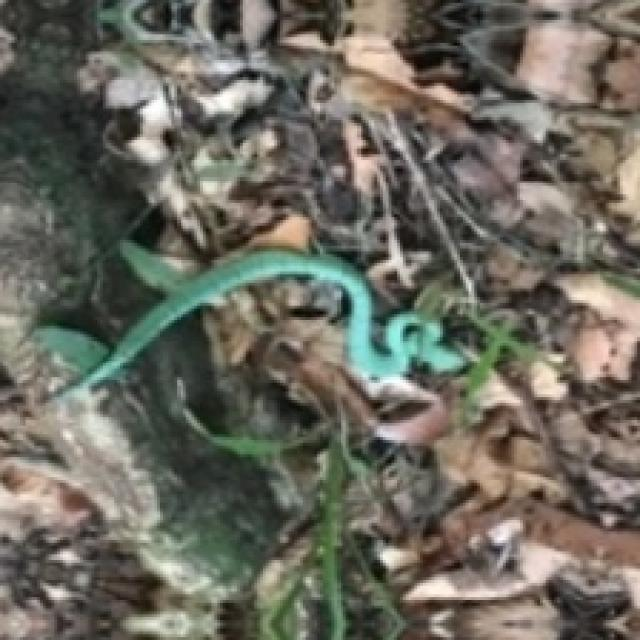north ph temple pitviper: (77, 0, 463, 443)
